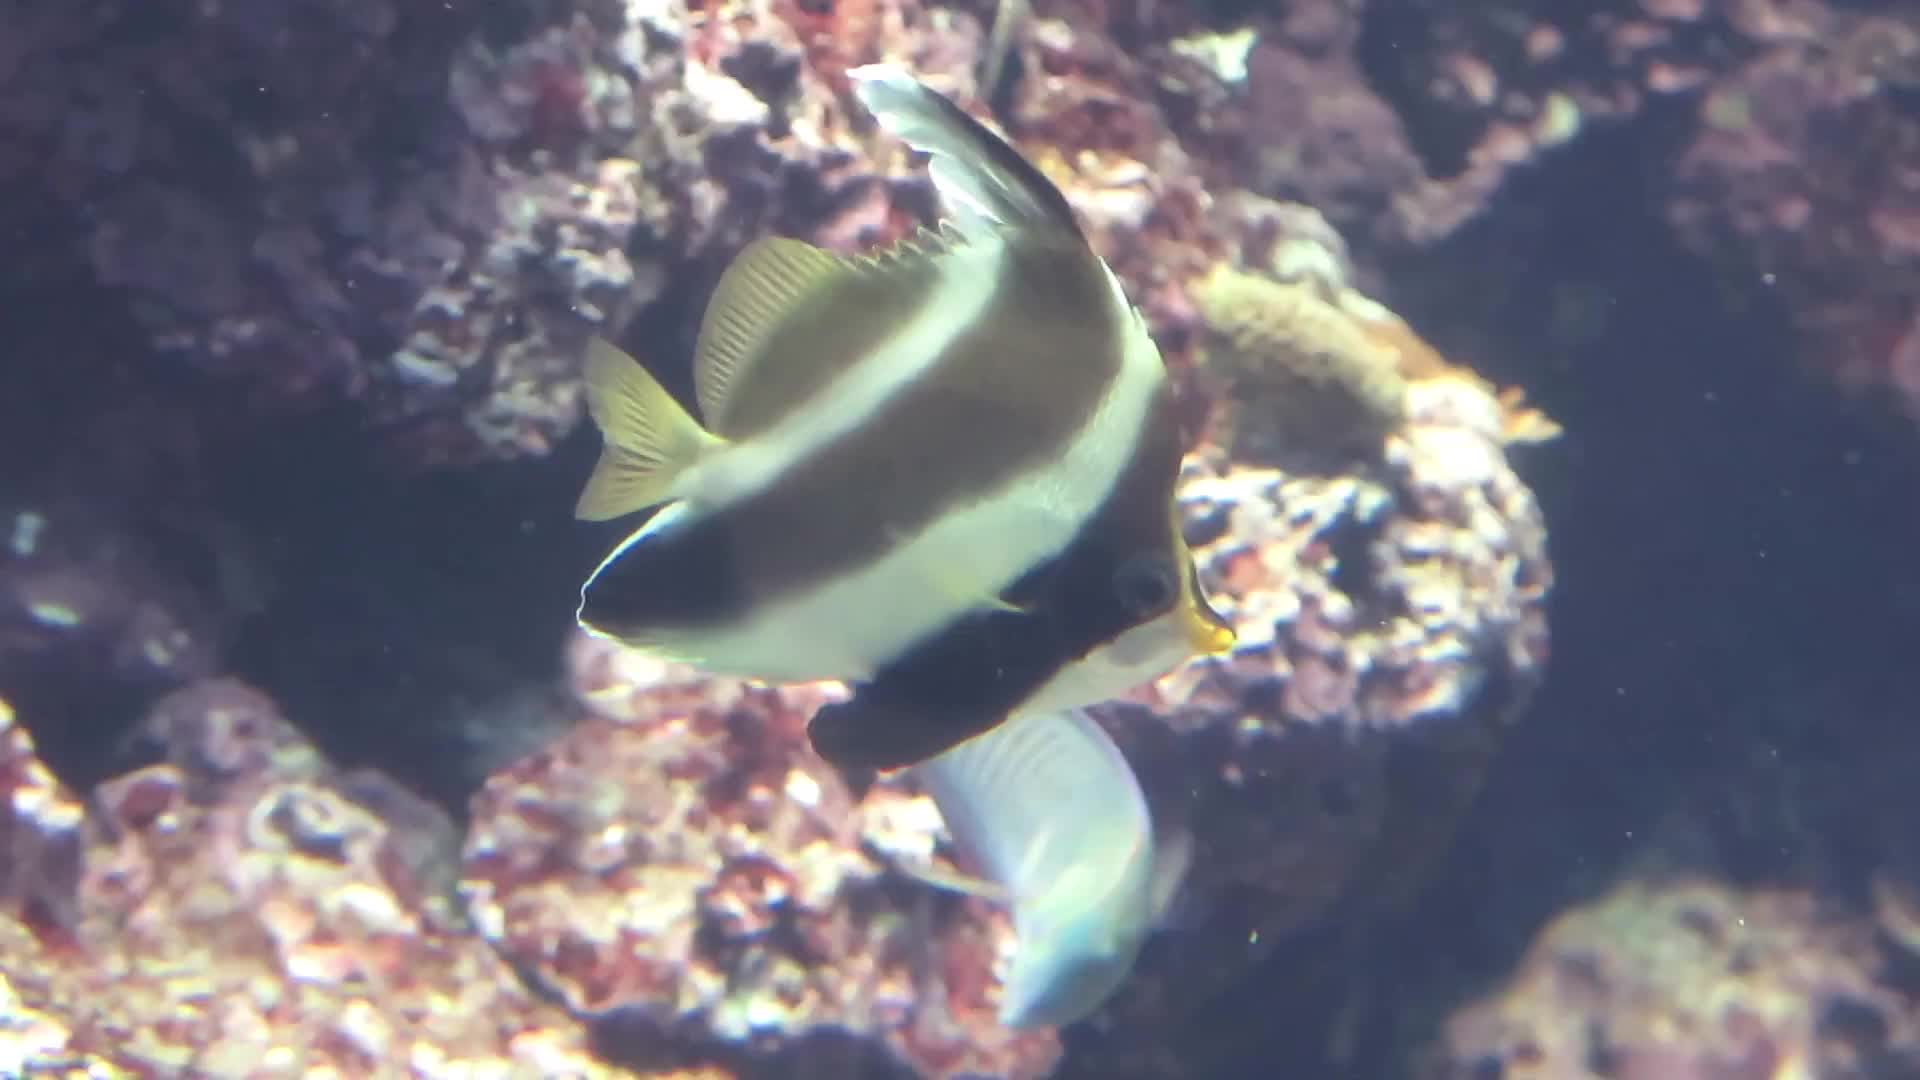Heniochus chrysostomus: (527, 32, 1280, 818)
